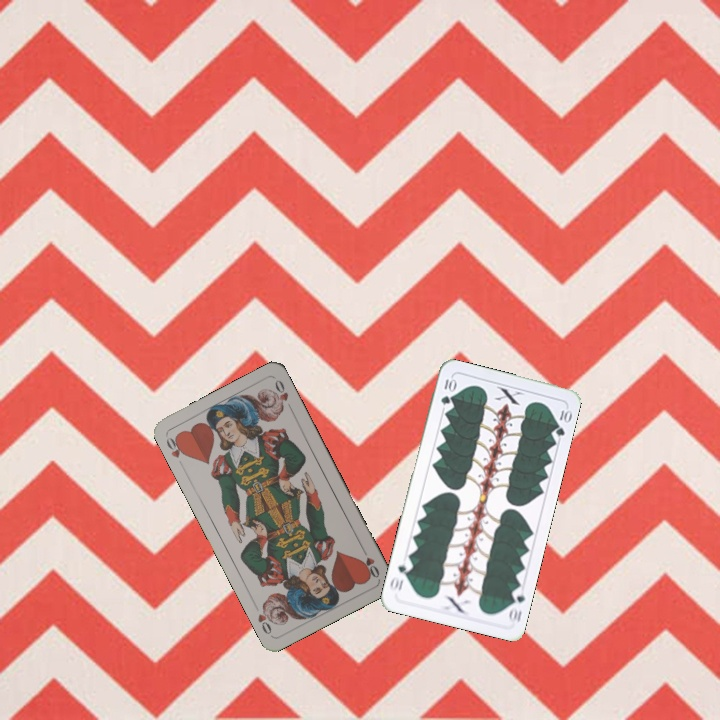G10: (504, 584, 527, 626), (437, 373, 458, 408)
HO: (162, 432, 189, 470), (357, 543, 382, 581)
